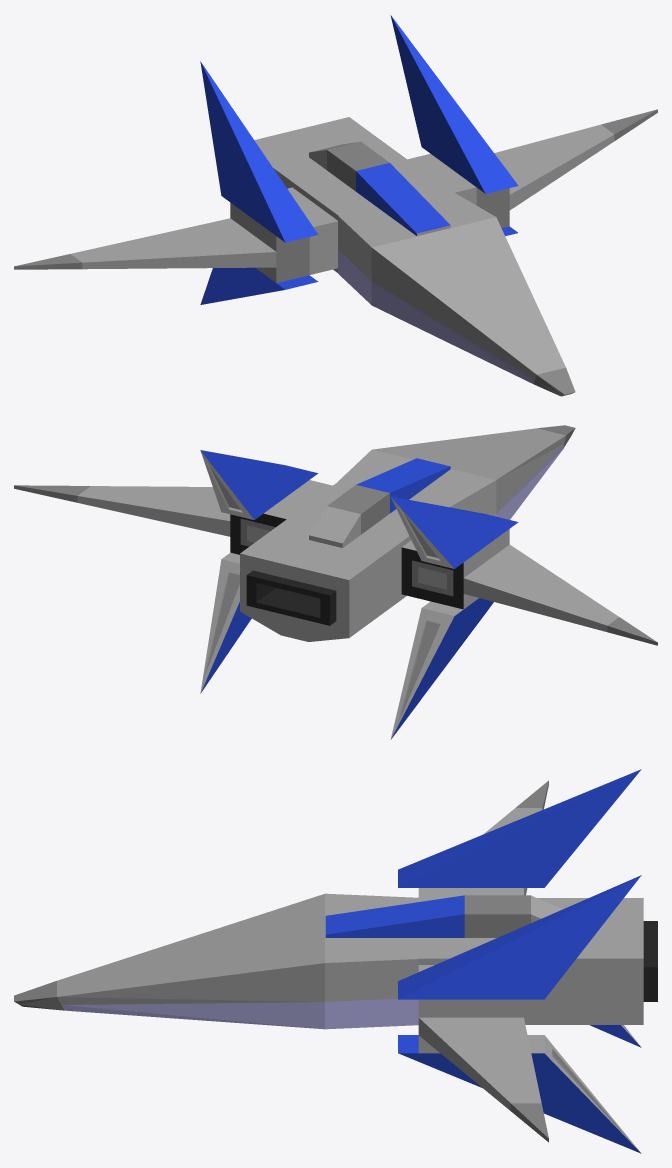
Rendered from B_Spaceship_10_Arwing.fbx.
The picture shows the model from 3 angles, top to bottom: view 1: azimuth 30°, elevation 25°; view 2: azimuth 150°, elevation 25°; view 3: azimuth 270°, elevation 25°; orthographic projection. The views are drawn at different scales.
Parts seen in each view (by area): view 1: pCube1; view 2: pCube1; view 3: pCube1.
Boxes of the visible parts, bbox=[...] form: pCube1: bbox=[14, 15, 657, 396]; pCube1: bbox=[14, 425, 657, 739]; pCube1: bbox=[14, 769, 657, 1153].
Size of the model in its own units: 0.0733 by 0.0556 by 0.0266.
